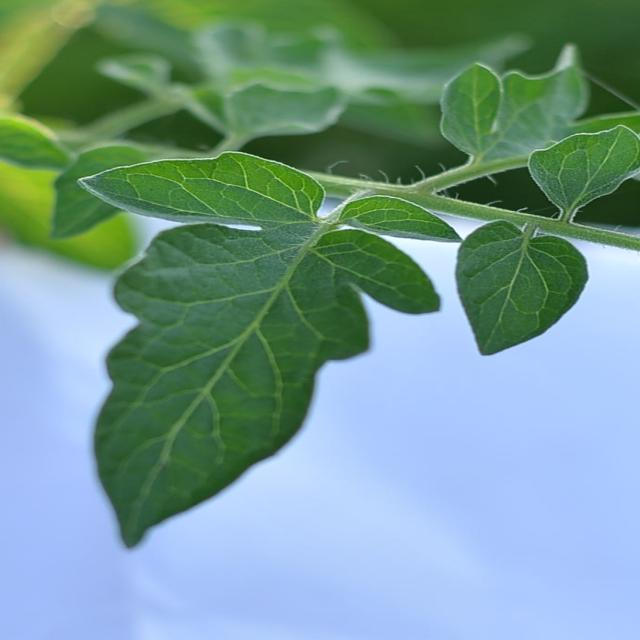healthy: (44, 148, 460, 555), (406, 56, 640, 232), (448, 215, 593, 365)
